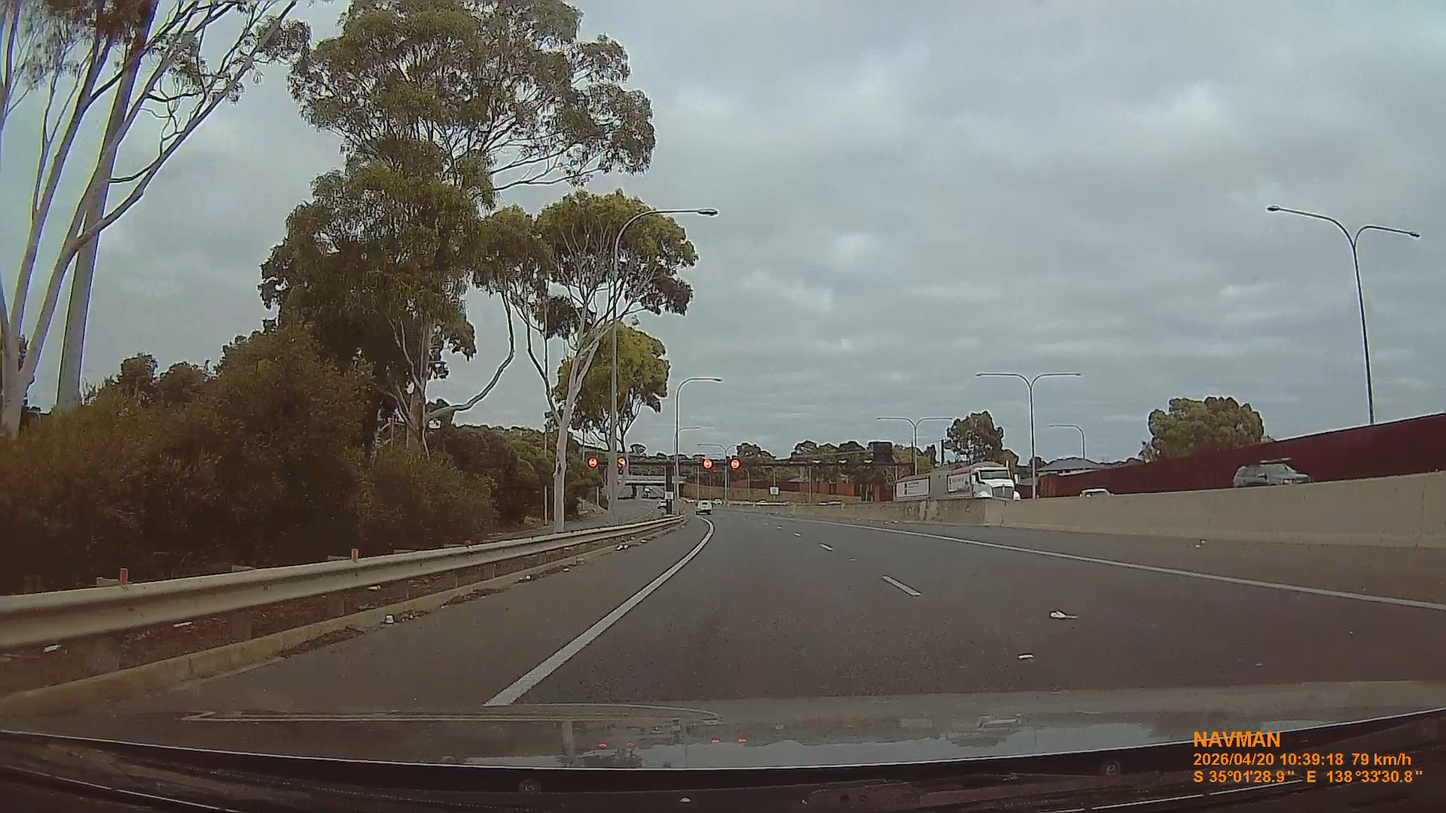road barriers: (0, 521, 657, 647), (791, 473, 1445, 549)
